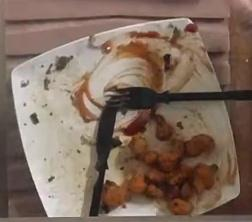carrots: (102, 100, 238, 214)
